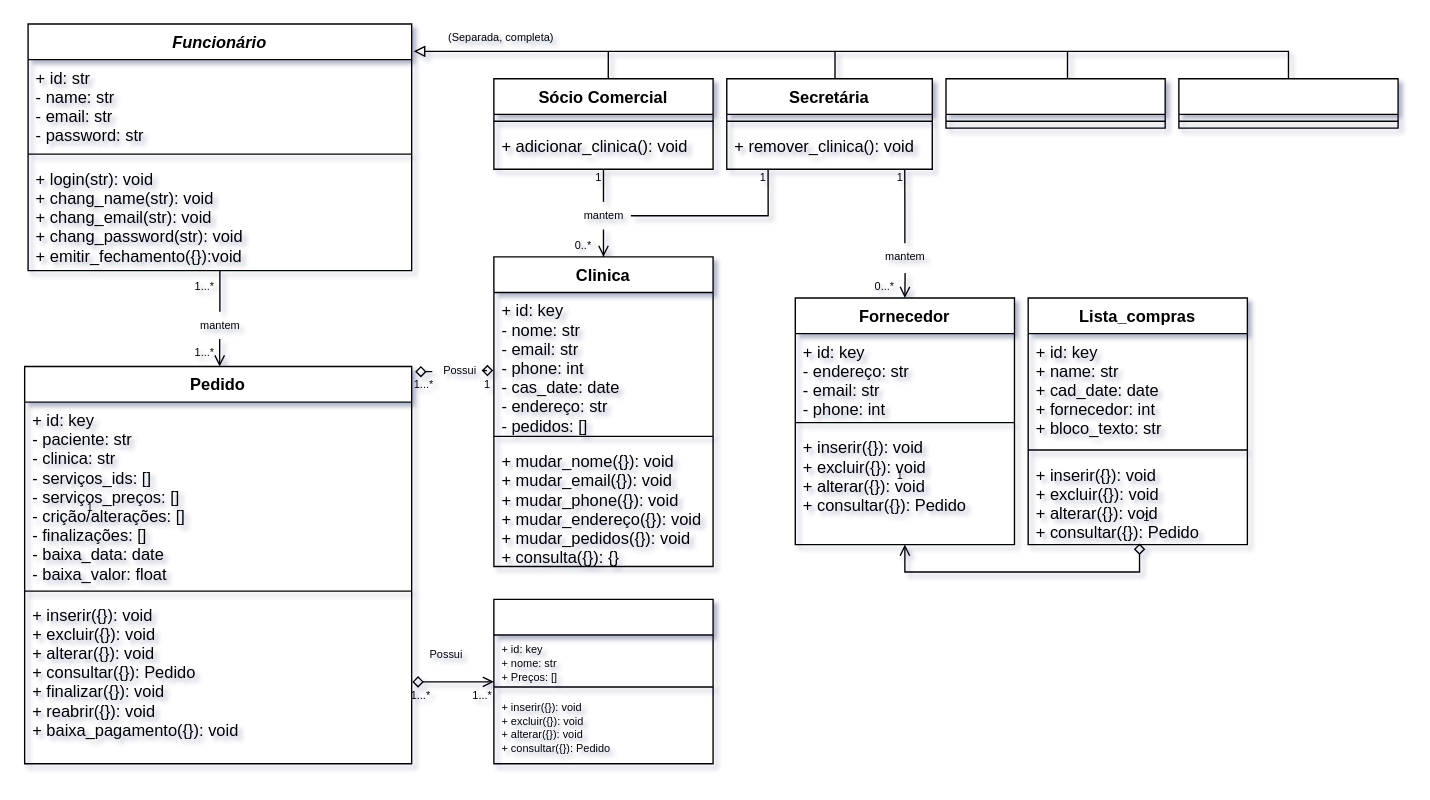
Some shapes in this 1430 by 800 pixel diagram are drawn without their labels. Here are the shapes that lost their labels. From the top down, the box of each, then its label:
(945, 77, 1165, 128): Sócio Operacional
(1178, 77, 1398, 128): Protético
(493, 598, 713, 764): Serviço
